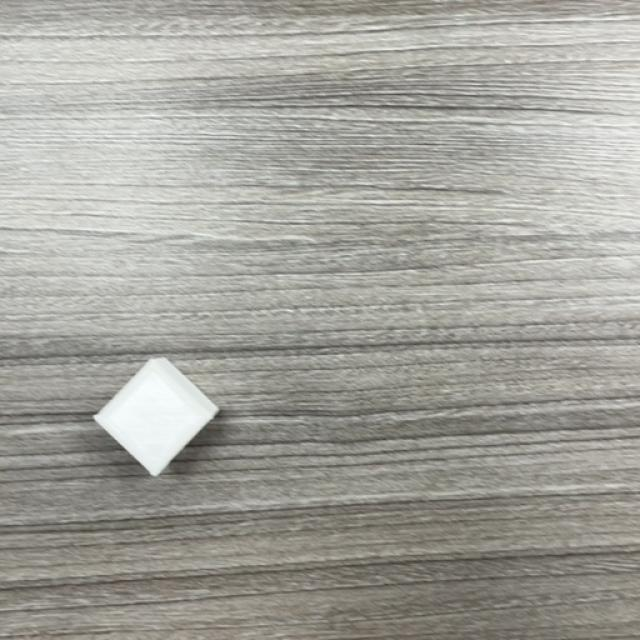Blanco: (92, 359, 220, 479)
